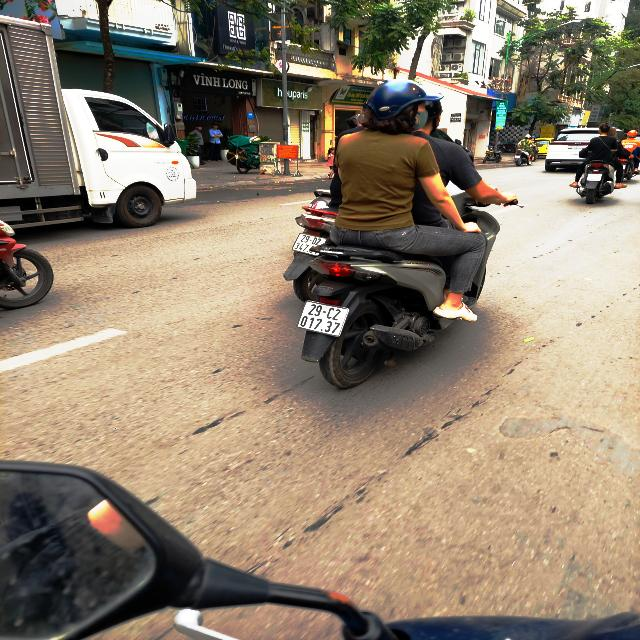license_plate: (296, 300, 352, 339)
